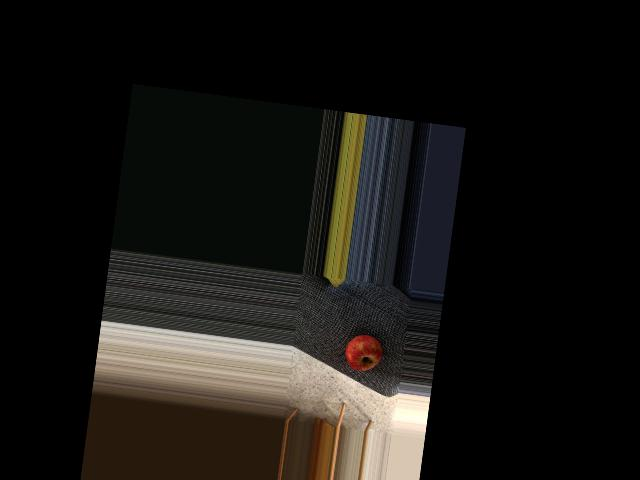apple: (342, 329, 387, 375)
